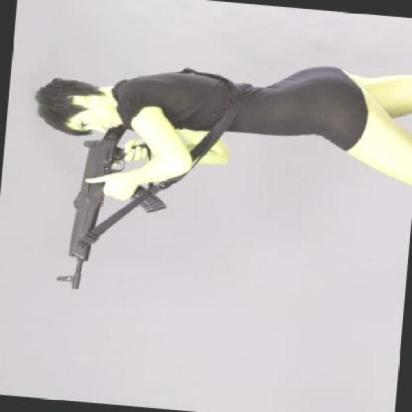Gun: (50, 114, 174, 297)
